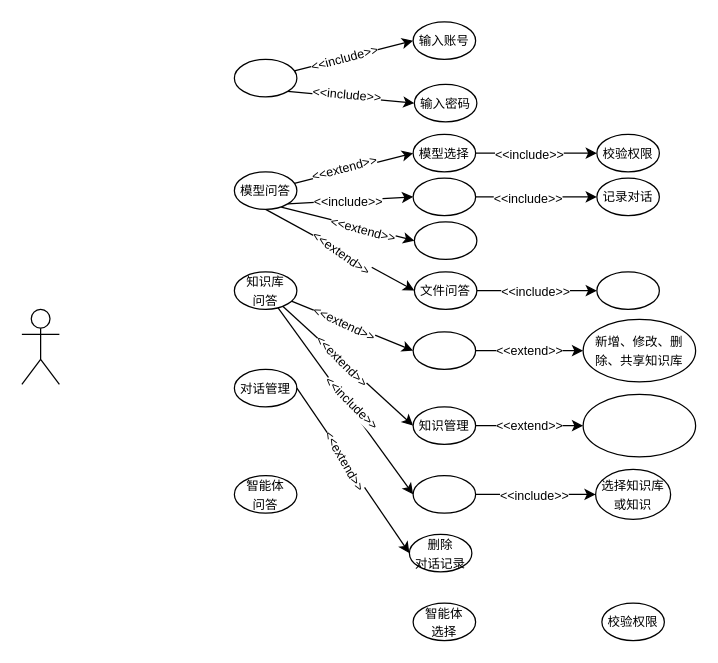
This 718x663 diagram has some shape labels left out. The shapes that lost their labels are listed below. From the top down, each one's centre as x and y in pixels, then its label:
pixel 265 77: 注册
pixel 444 196: 发起对话
pixel 445 240: 联网搜索
pixel 627 290: 上传文件
pixel 40 346: 用户
pixel 444 350: 知识库 管理
pixel 639 425: 新增、修改、删除、共享知识
pixel 444 493: 发起问答
